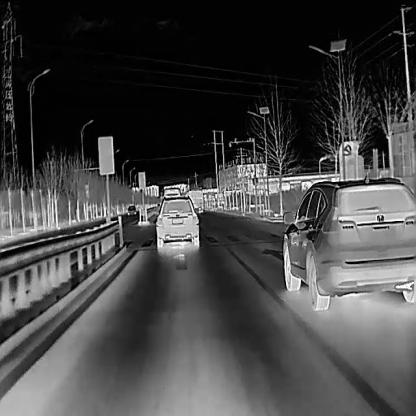bus: (185, 190, 202, 212)
car: (282, 170, 415, 310), (156, 194, 198, 248), (126, 204, 136, 214)
